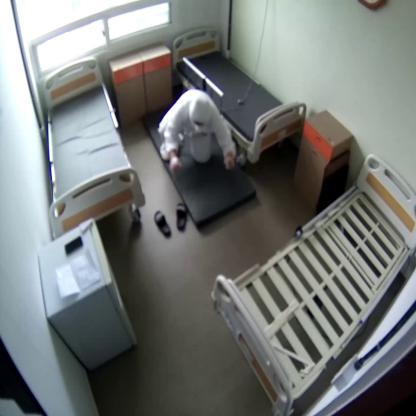Bed: (211, 154, 415, 415), (173, 28, 305, 162)
Person: (159, 89, 236, 172)
